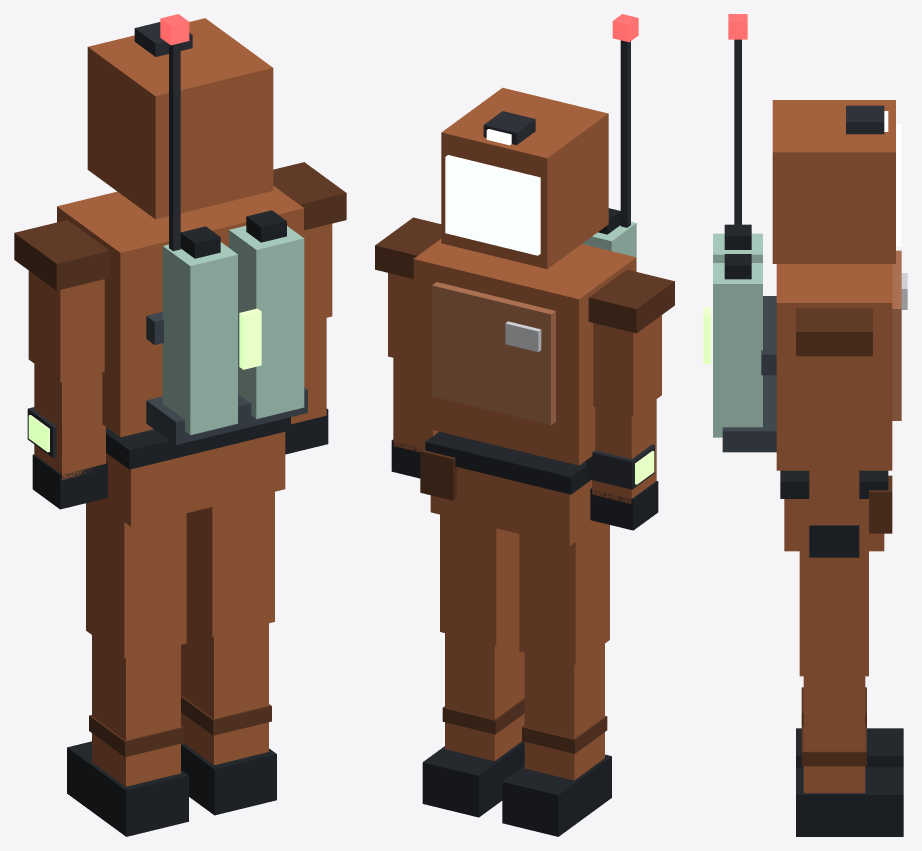
File: bio_tech_rust.glb
3 renders of one model, left to right at view 1: azimuth 30°, elevation 25°; view 2: azimuth 150°, elevation 25°; view 3: azimuth 270°, elevation 25°, orthographic. The views are drawn at different scales.
Parts seen in each view (by area): view 1: Merged6, Merged, Merged7, Merged8, Merged9, _MeshInstance3D_2807, Merged3, _MeshInstance3D_2818, Merged2, Merged5, Merged4; view 2: Merged6, Merged, Merged7, Merged8, Merged9, _MeshInstance3D_2807, Merged3, _MeshInstance3D_2818, Merged2, Merged5, Merged4; view 3: Merged6, Merged, Merged8, Merged5, _MeshInstance3D_2818, Merged4, Merged9, Merged7.
Boxes of the visible parts, x1,y1,x2,y2 form: Merged6: (57, 14, 307, 444); Merged: (87, 18, 273, 219); Merged7: (67, 635, 188, 836); Merged8: (181, 618, 276, 815); Merged9: (96, 417, 290, 526); _MeshInstance3D_2807: (86, 501, 186, 658); Merged3: (14, 220, 109, 382); _MeshInstance3D_2818: (186, 492, 274, 636); Merged2: (27, 364, 107, 509); Merged5: (273, 162, 346, 322); Merged4: (285, 318, 328, 454); Merged6: (413, 14, 638, 465); Merged: (441, 87, 608, 268); Merged7: (502, 644, 611, 836); Merged8: (422, 629, 524, 817); Merged9: (420, 431, 600, 545); _MeshInstance3D_2807: (519, 523, 609, 664); Merged3: (588, 269, 674, 416); _MeshInstance3D_2818: (440, 514, 519, 645); Merged2: (586, 399, 658, 530); Merged5: (375, 217, 441, 362); Merged4: (391, 358, 438, 478); Merged6: (703, 14, 907, 470); Merged: (772, 100, 901, 263); Merged8: (796, 676, 903, 836); Merged5: (796, 308, 872, 441); _MeshInstance3D_2818: (799, 551, 868, 676); Merged4: (809, 441, 859, 557); Merged9: (780, 470, 892, 551); Merged7: (796, 687, 903, 767).
Size of the model in its own units: 0.79 by 2.18 by 0.53.
